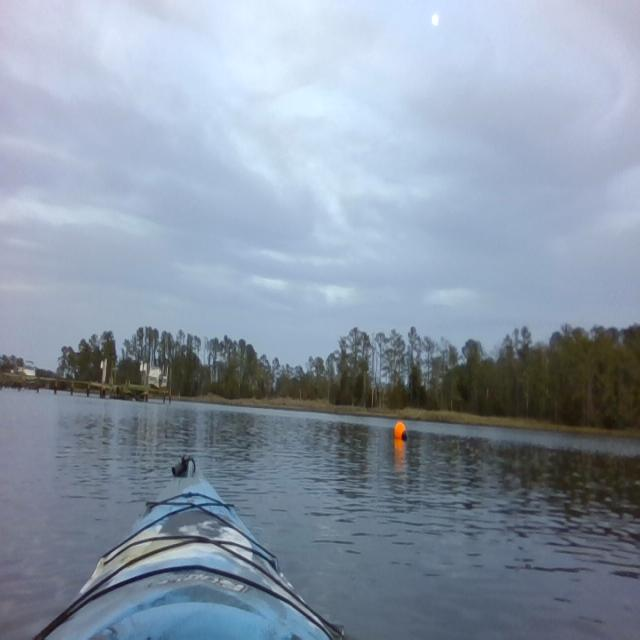Buoy: (392, 418, 410, 442)
